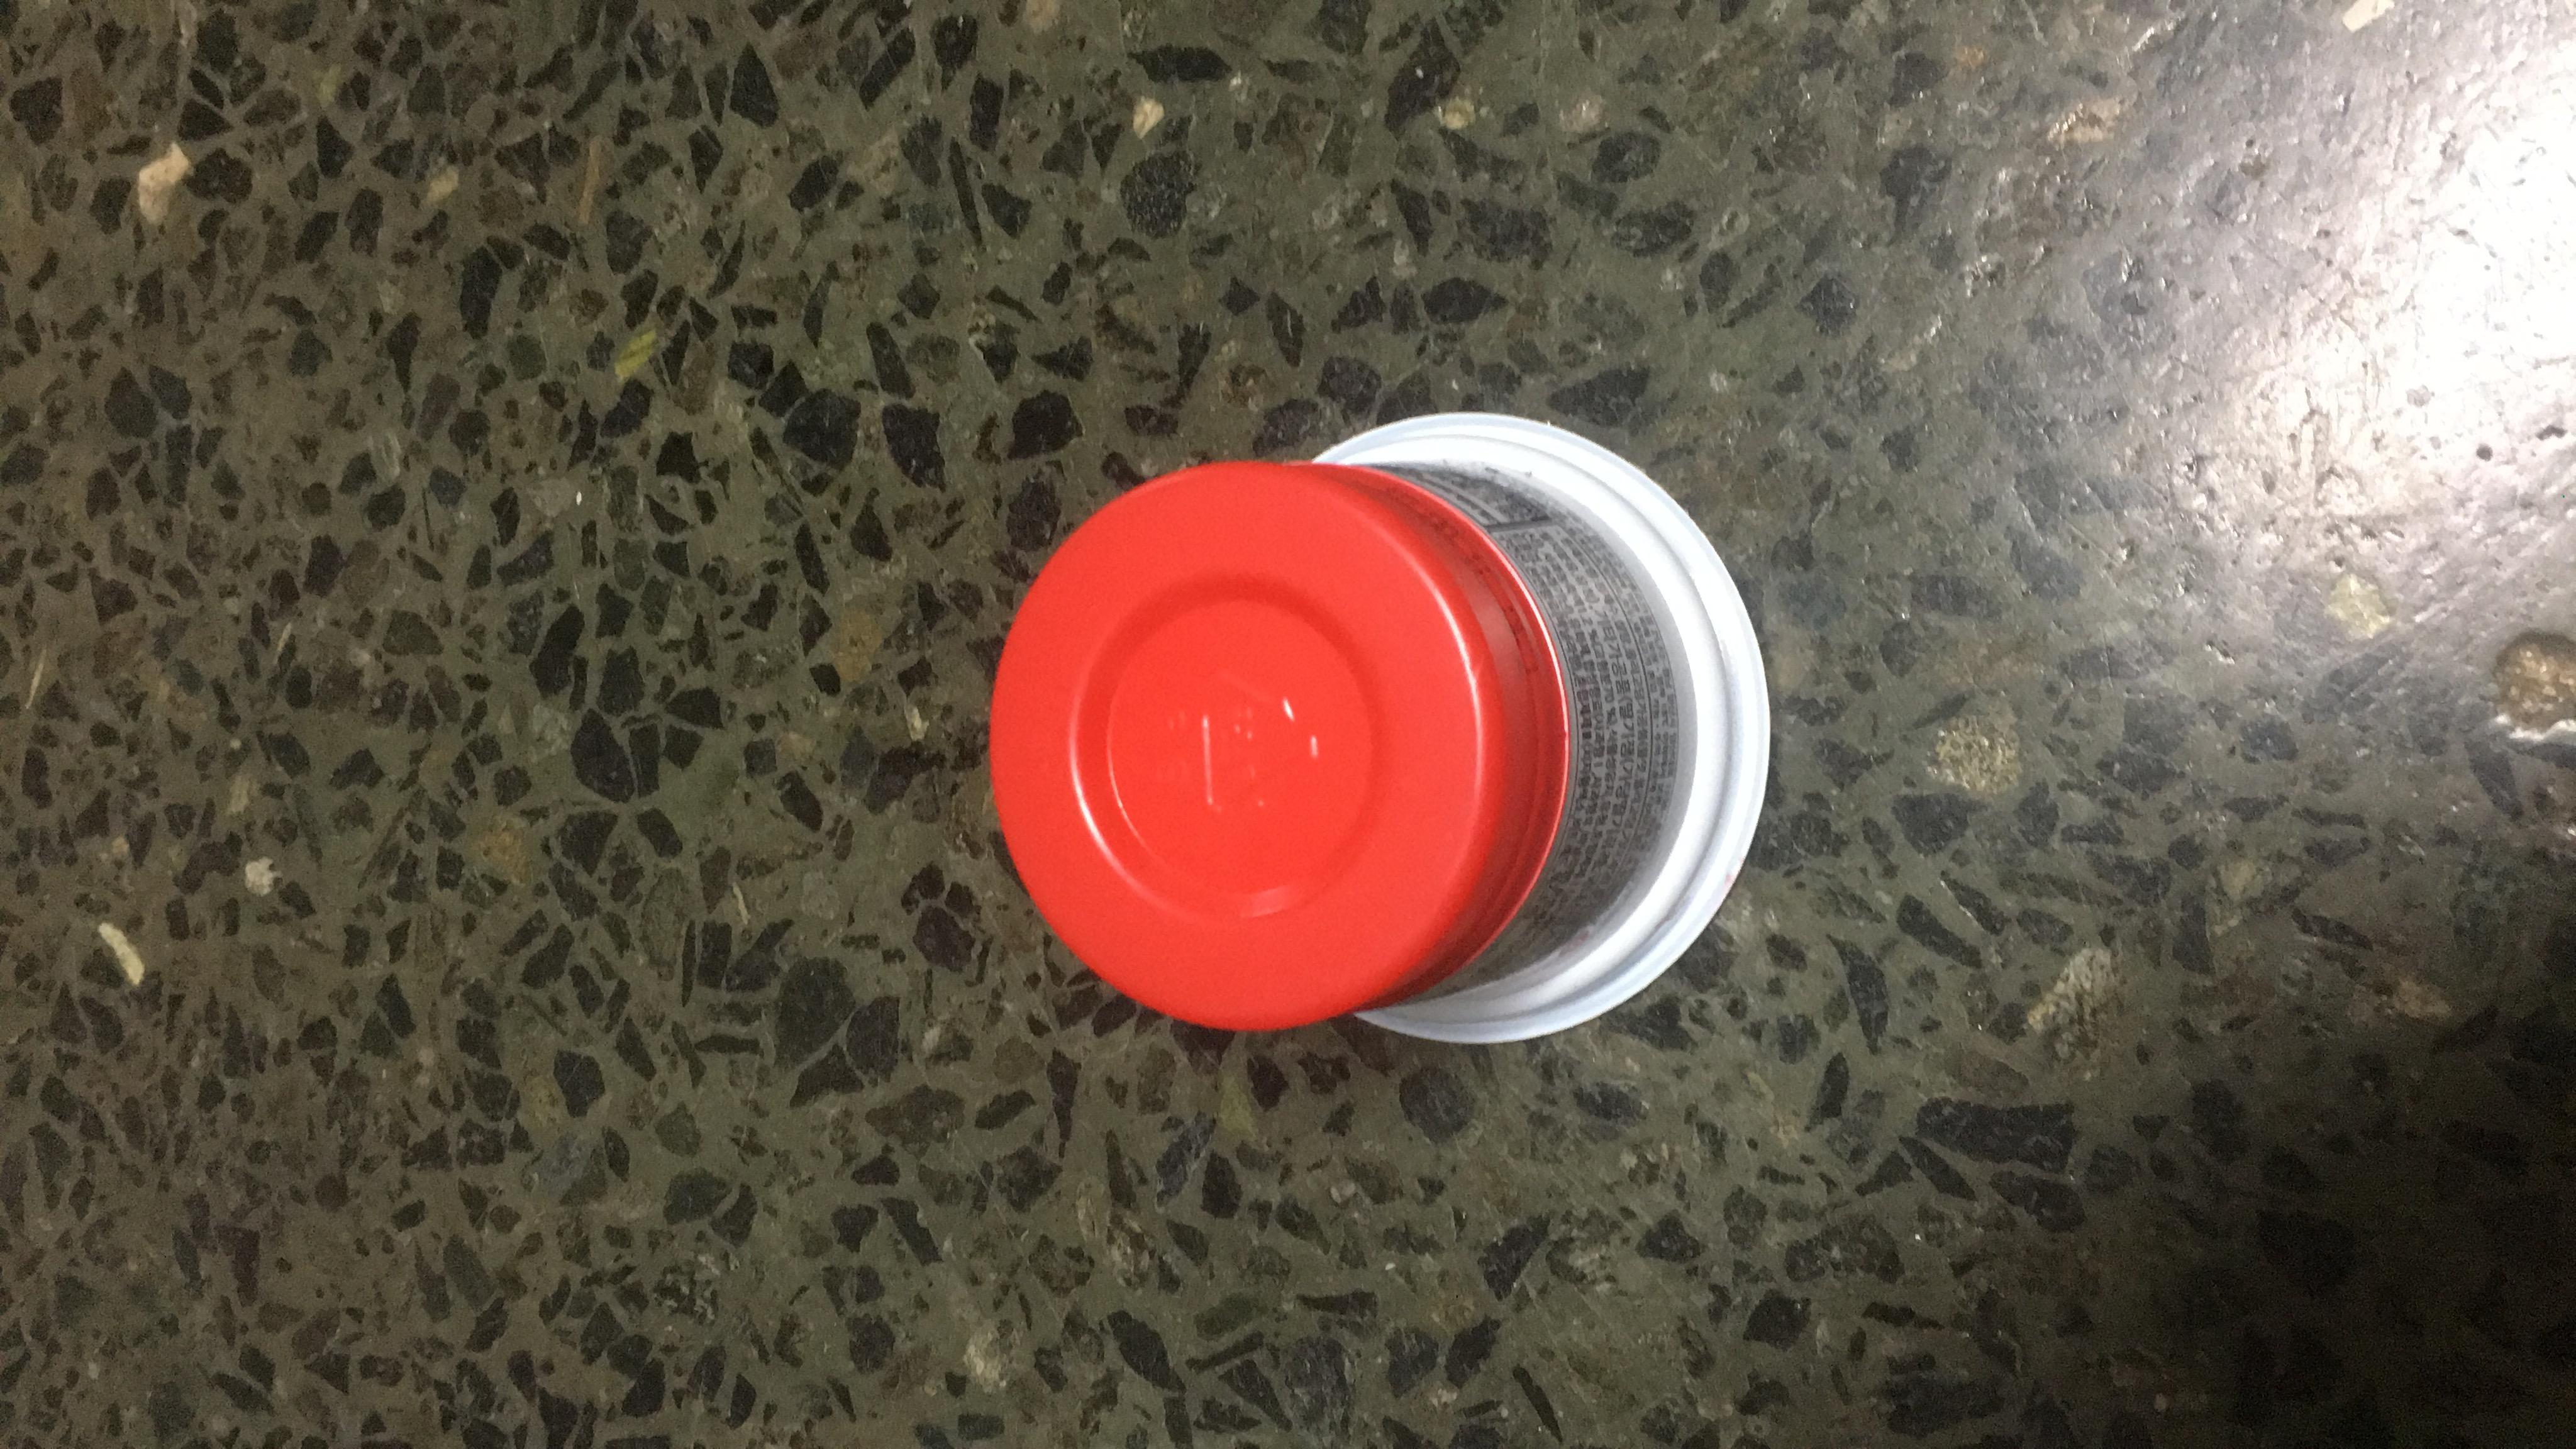bottle: (520, 557, 1575, 994)
